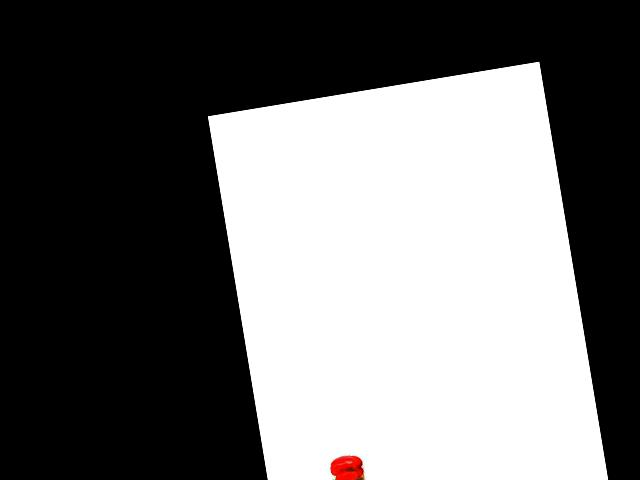bell_pepper: (332, 470, 367, 480)
